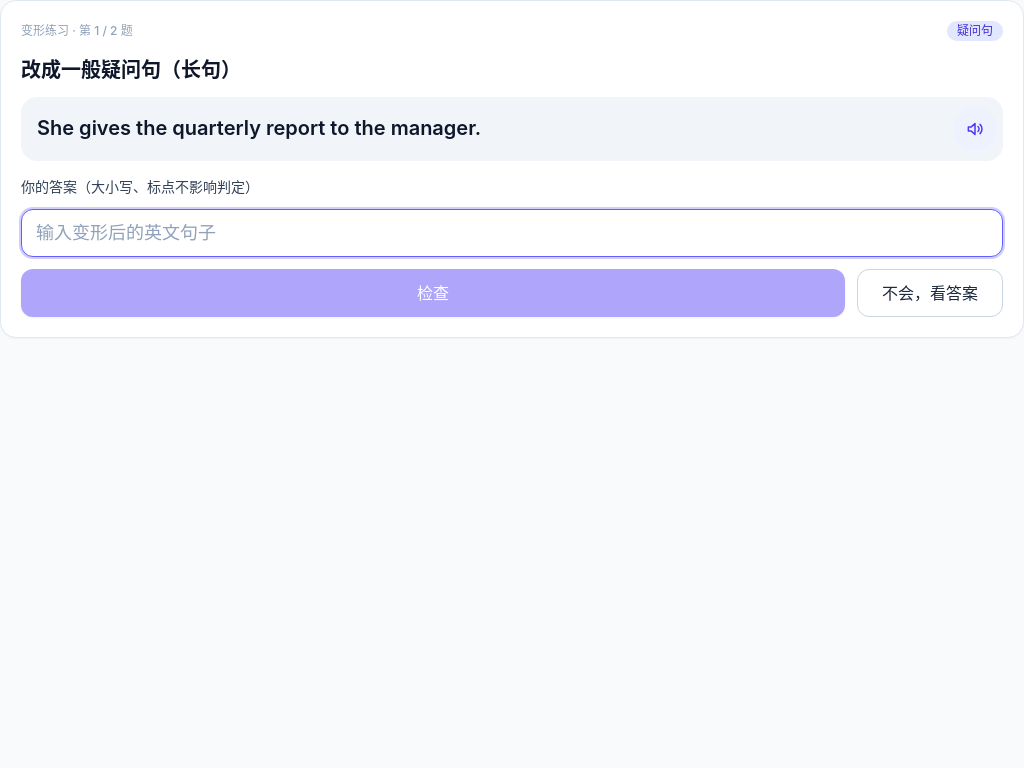
Test: TransformDrill › shows 差一点 with a diff for a near miss, and the diff plus answer for a wrong answer
The image size is (1024, 768).
Type "Does she give the quarterly report to manager?" into the field labelled "你的答案（大小写、标点不影响判定）" at (512, 232), box [21,208,1003,256]
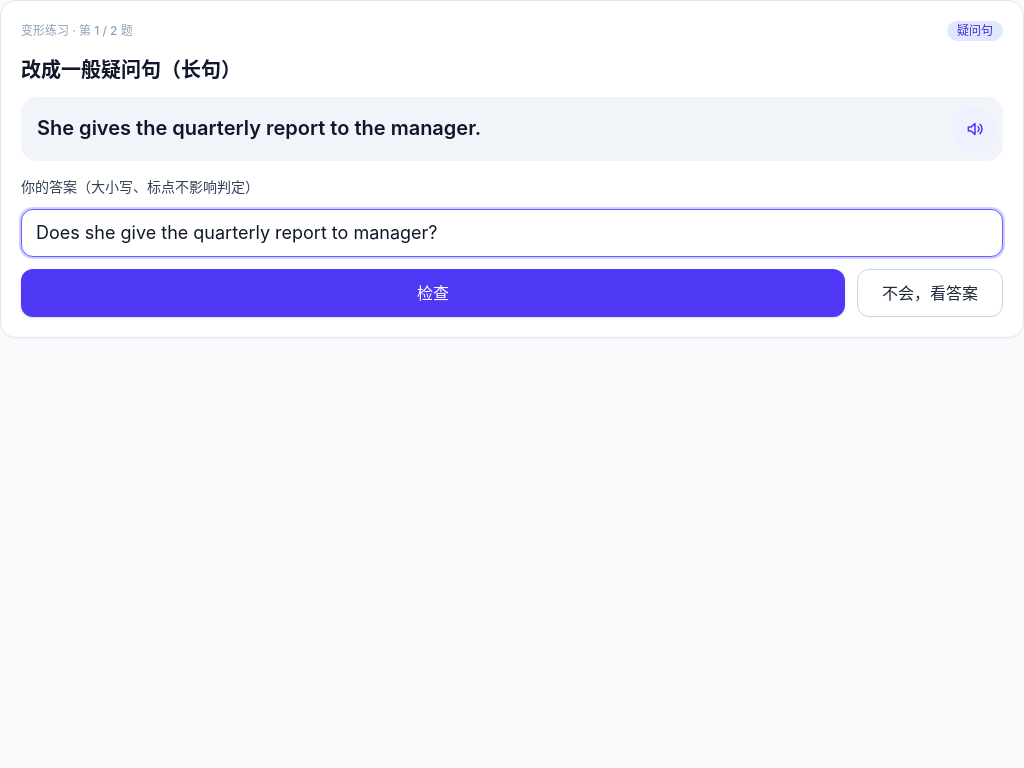
Click the button "检查" at (433, 292), box [21,268,845,316]
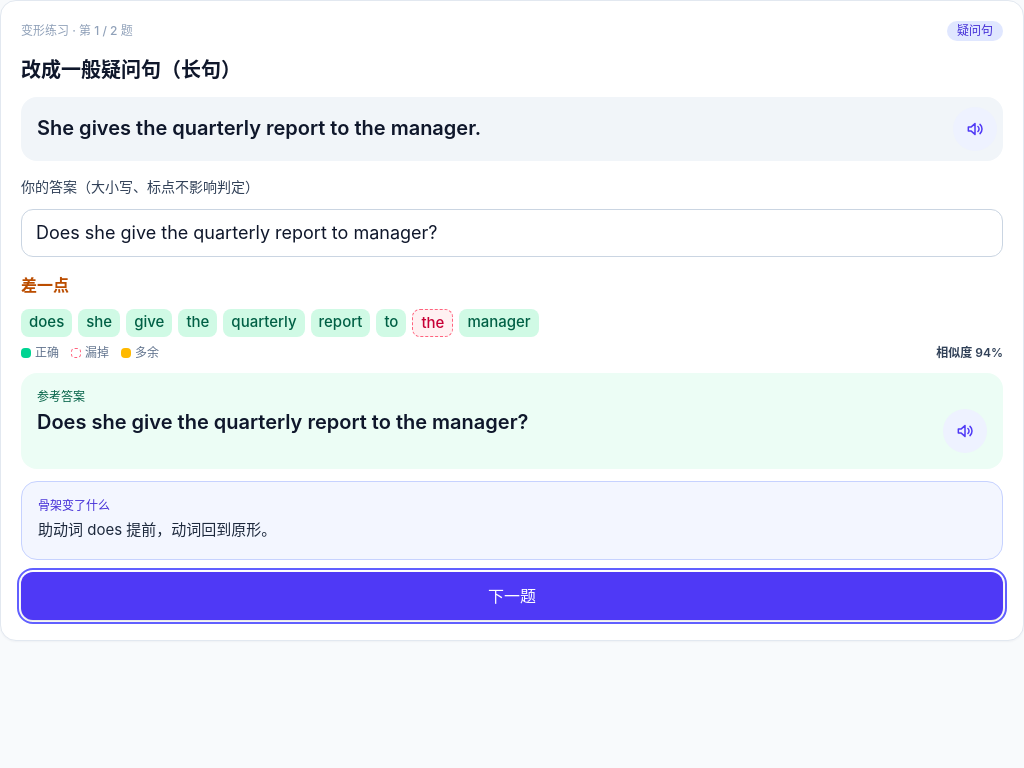
Check: the text "差一点" is shown, box [21,274,69,294]
Check: the list named "答案对比" is shown, box [21,308,539,337]
Check: the text with test id "transform-answer" reads "Does she give the quarterly report to the manager?", box [37,410,528,434]
Click the button "下一题" at (512, 596), box [21,572,1003,620]
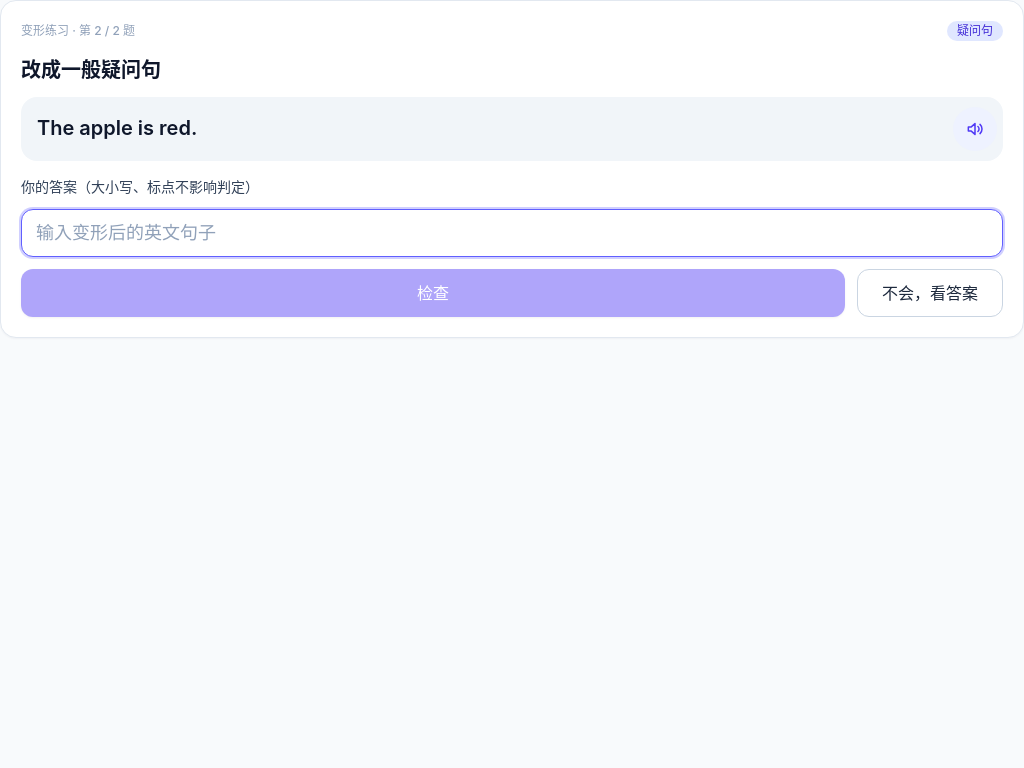
Type "The apple is red?" into the field labelled "你的答案（大小写、标点不影响判定）" at (512, 232), box [21,208,1003,256]
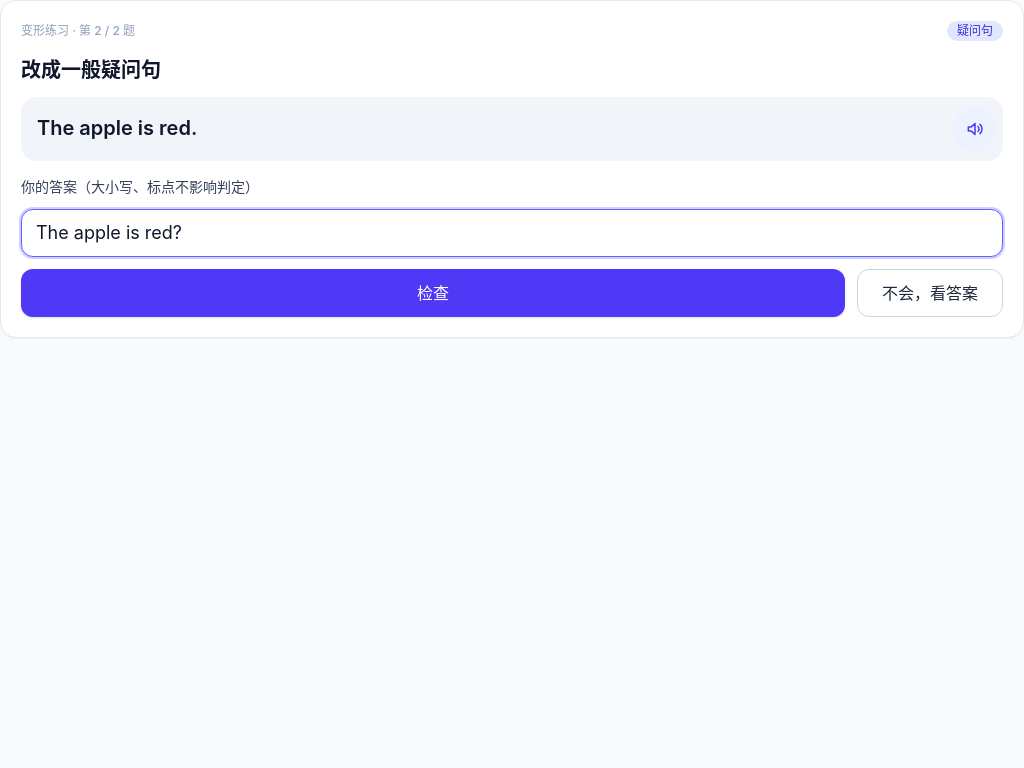
Click the button "检查" at (433, 292), box [21,268,845,316]
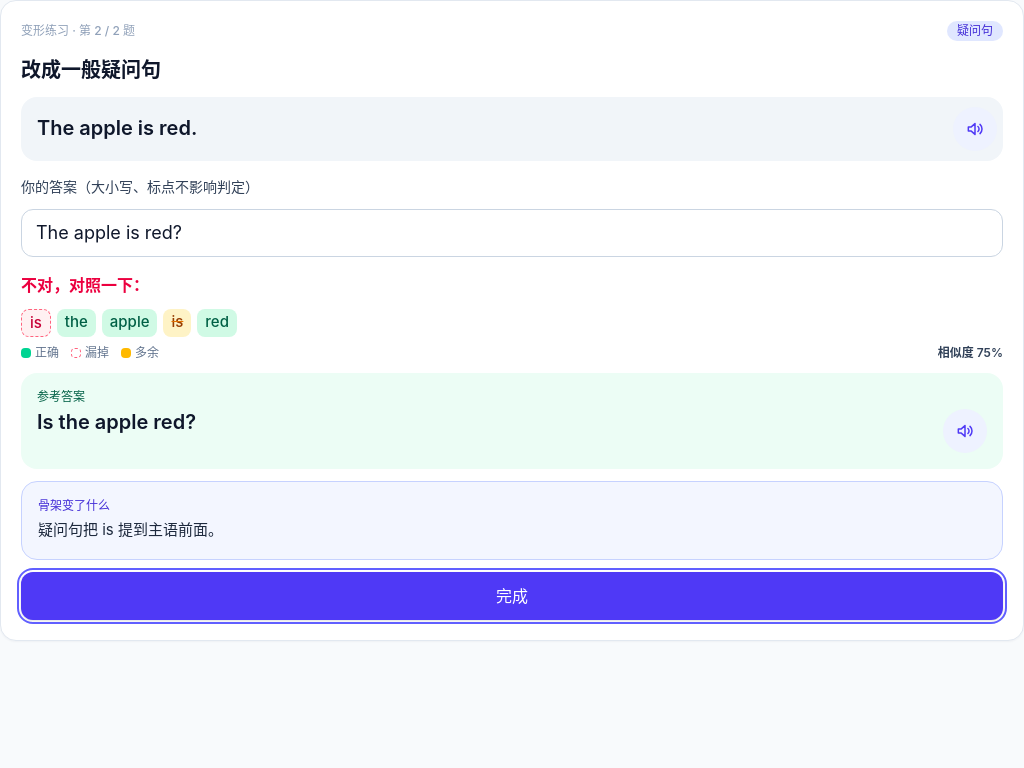
Check: the text "不对，对照一下：" is shown, box [21,274,149,294]
Check: the list named "答案对比" is shown, box [21,308,237,337]
Check: the text with test id "transform-answer" reads "Is the apple red?", box [37,410,196,434]
